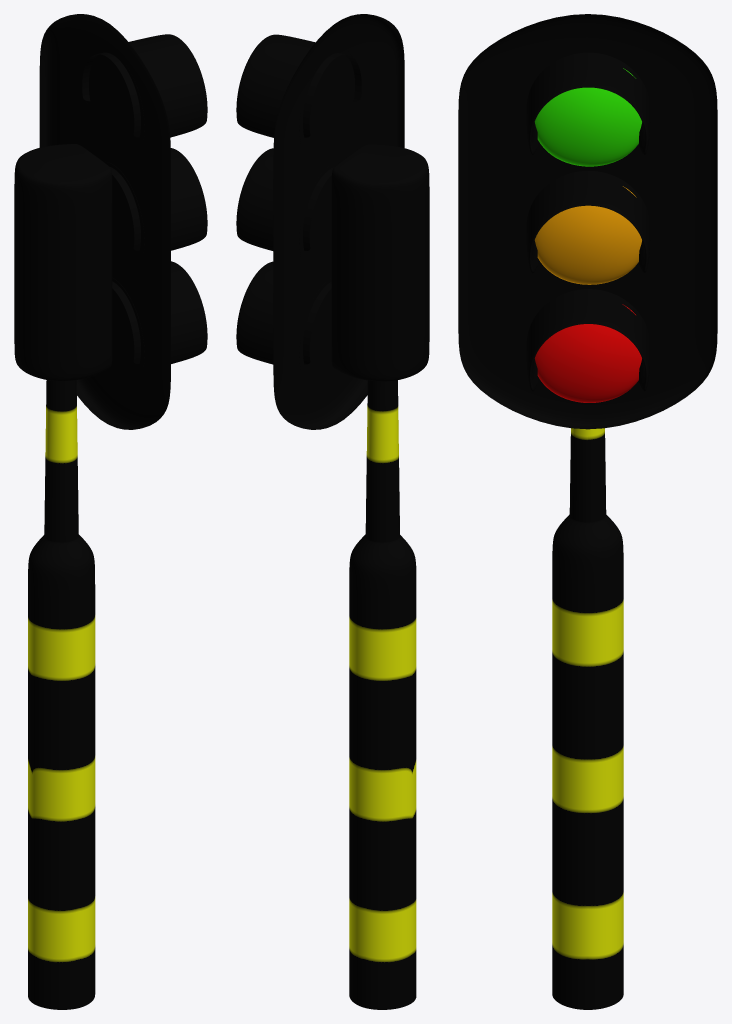
File: Stoplicht.fbx
3 renders of one model, left to right at view 1: azimuth 30°, elevation 25°; view 2: azimuth 150°, elevation 25°; view 3: azimuth 270°, elevation 25°, orthographic. The views are drawn at different scales.
Visible parts, largest first — view 1: Light_Housing, Pole; view 2: Light_Housing, Pole; view 3: Light_Housing, Pole, Green, Red, Orange.
Part boxes in pixels (x1,y1,x2,y2): Light_Housing: (14, 14, 207, 429); Pole: (28, 380, 95, 1009); Light_Housing: (236, 14, 429, 429); Pole: (349, 380, 416, 1009); Light_Housing: (458, 14, 717, 429); Pole: (552, 428, 623, 1009); Green: (534, 68, 641, 166); Red: (534, 304, 641, 402); Orange: (534, 186, 641, 284).
Bounding box in the file's own units: 44.06 × 255 × 59.58.
